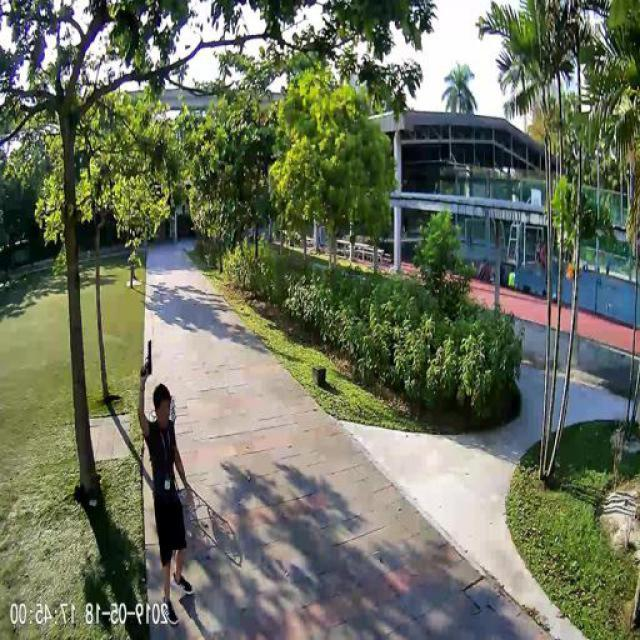weapon: (136, 339, 156, 380)
